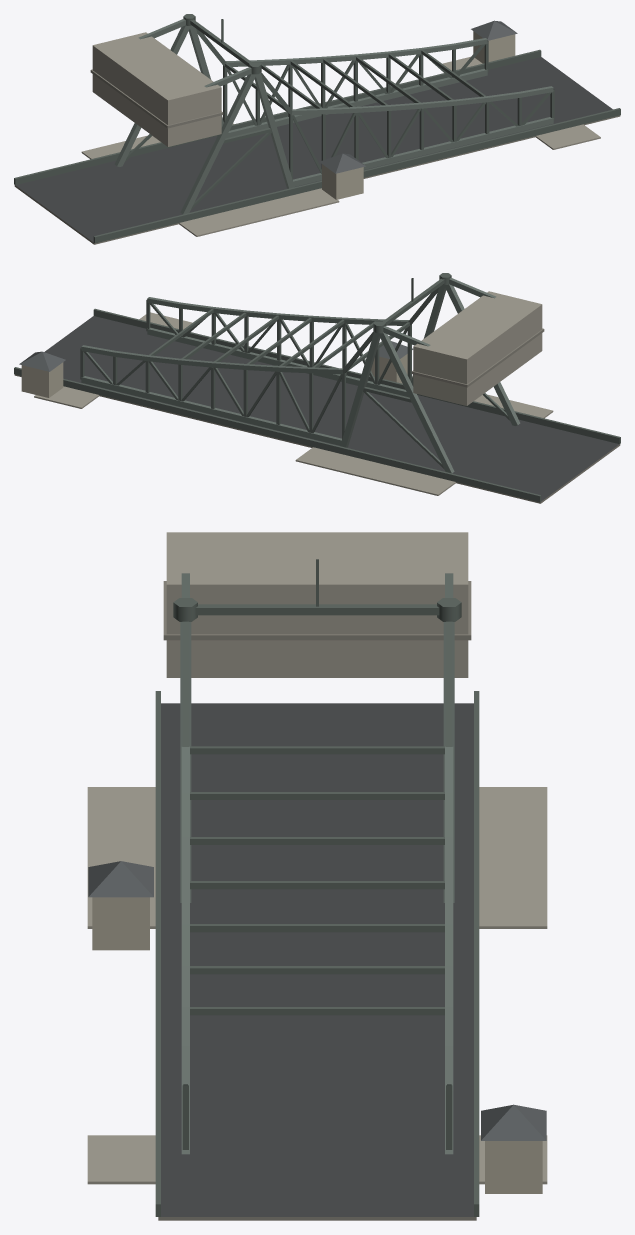
The model's file is third_street_bridge.glb.
3 renders of one model, top to bottom at view 1: azimuth 30°, elevation 25°; view 2: azimuth 150°, elevation 25°; view 3: azimuth 270°, elevation 25°, orthographic. The views are drawn at different scales.
Parts seen in each view (by area): view 1: third_street_bridge; view 2: third_street_bridge; view 3: third_street_bridge.
Part boxes in pixels (x1,y1,x2,y2): third_street_bridge: [14, 14, 620, 244]; third_street_bridge: [14, 273, 620, 503]; third_street_bridge: [87, 532, 547, 1220].
Bounding box in the file's own units: 88.5 × 25 × 33.5.
Materials: 1 (1 with a texture image).
